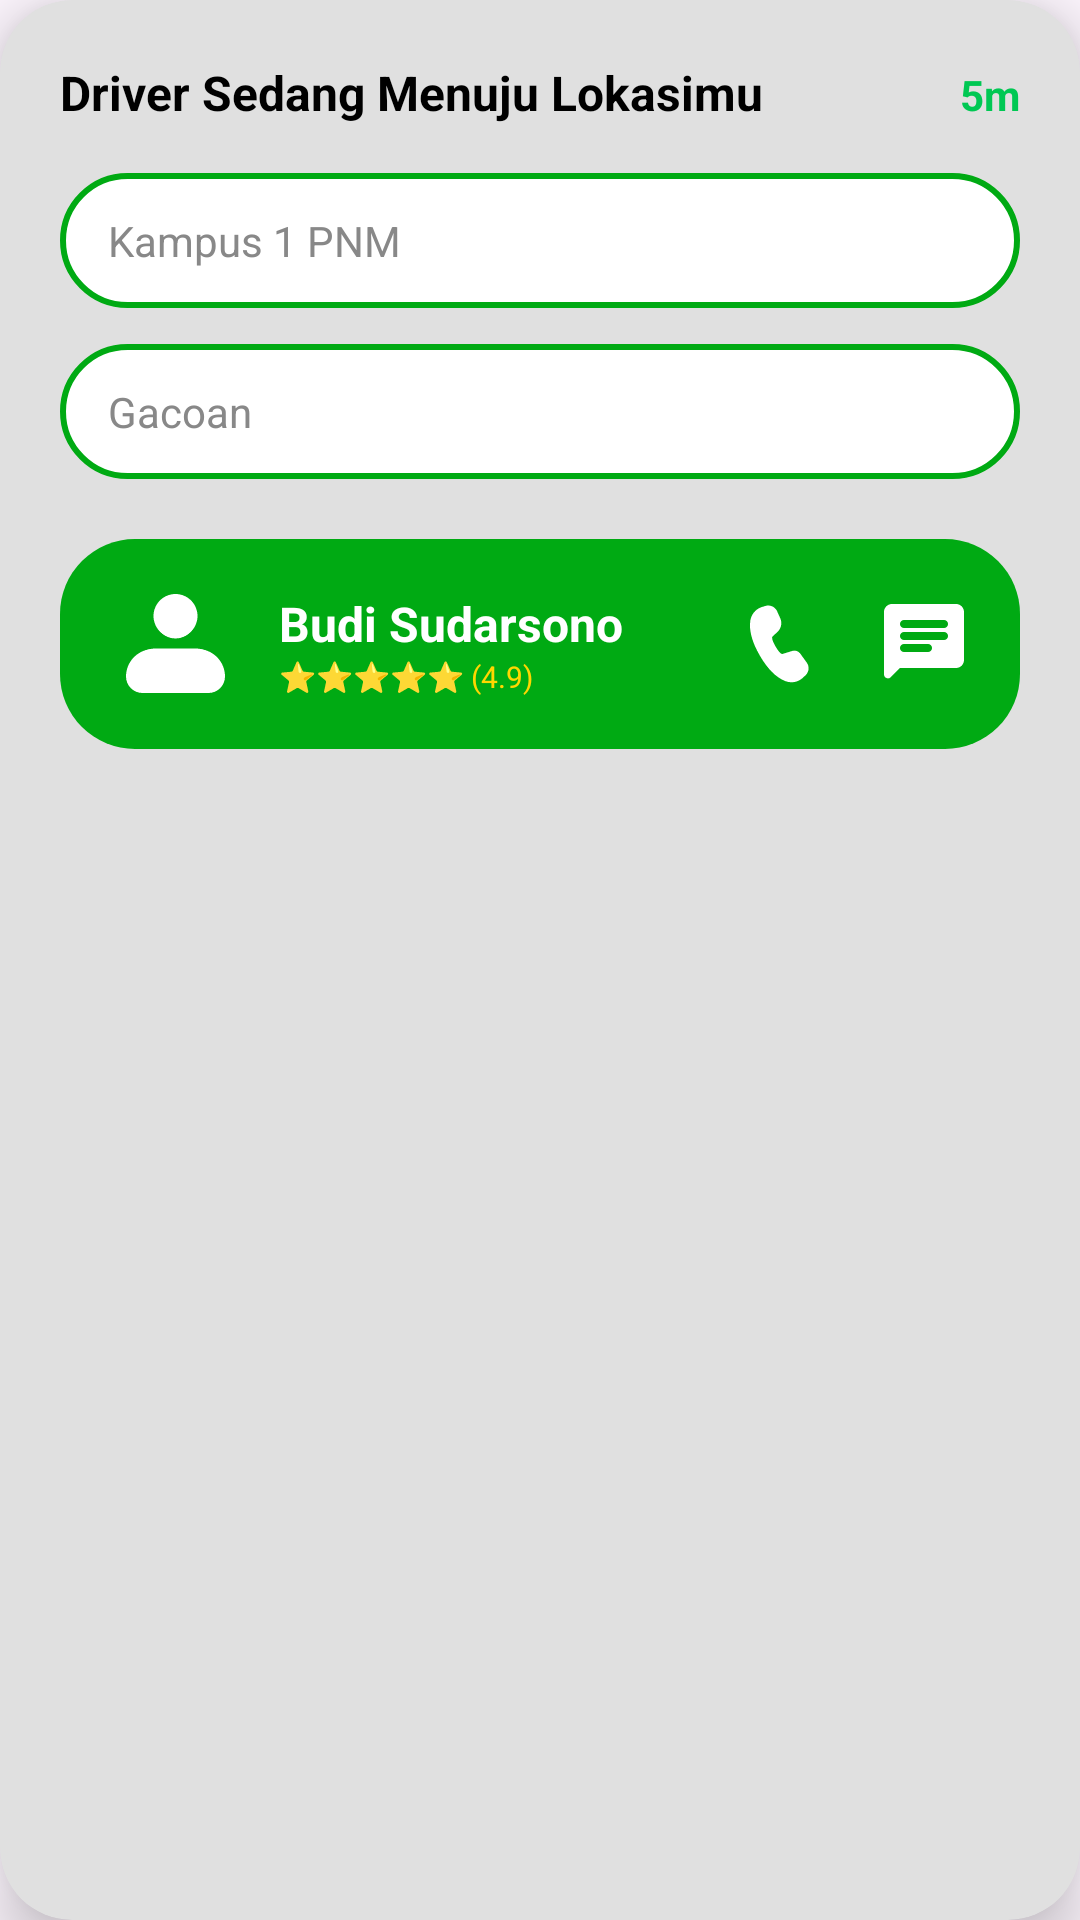

Screen size 1080×1920. Icon name, then its center in pixels as (x=x, y=y):
chat: (x=924, y=641)
profile: (x=175, y=643)
telepon: (x=779, y=644)
